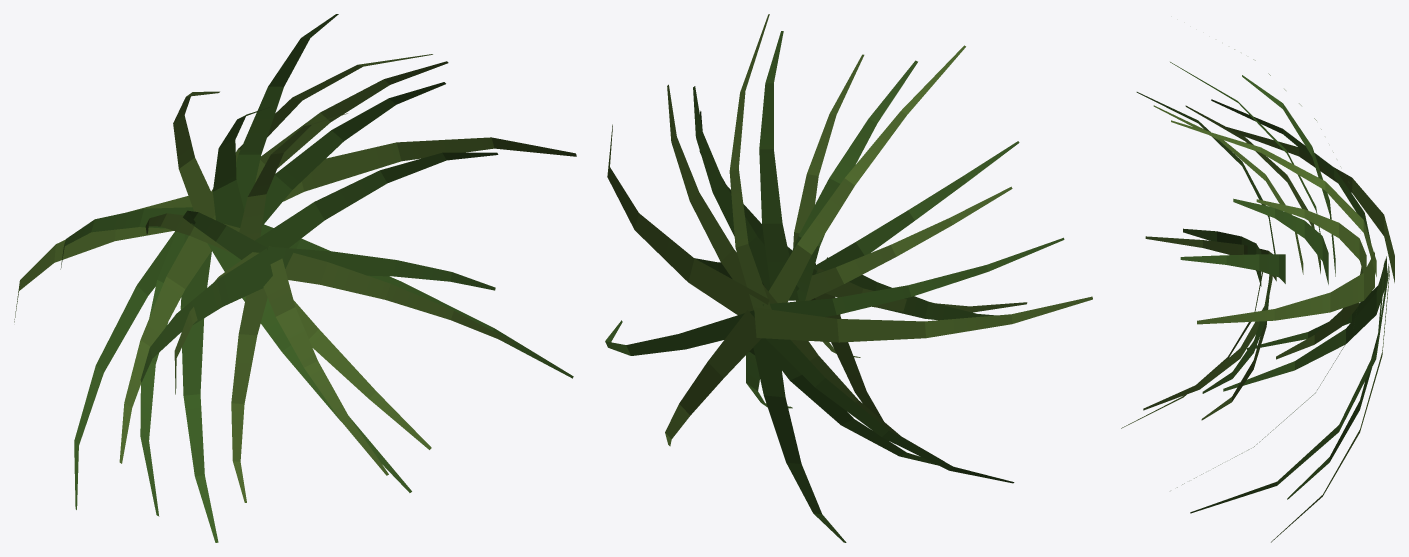
Rendered from tuft.glb.
3 renders of one model, left to right at view 1: azimuth 30°, elevation 25°; view 2: azimuth 150°, elevation 25°; view 3: azimuth 270°, elevation 25°, orthographic. The views are drawn at different scales.
Visible parts, largest first — view 1: tuft; view 2: tuft; view 3: tuft.
Part boxes in pixels (x1,y1,x2,y2): tuft: (14, 14, 576, 542); tuft: (605, 14, 1092, 542); tuft: (1121, 49, 1394, 542).
Bounding box in the file's own units: 0.481 × 0.4409 × 0.2351.
